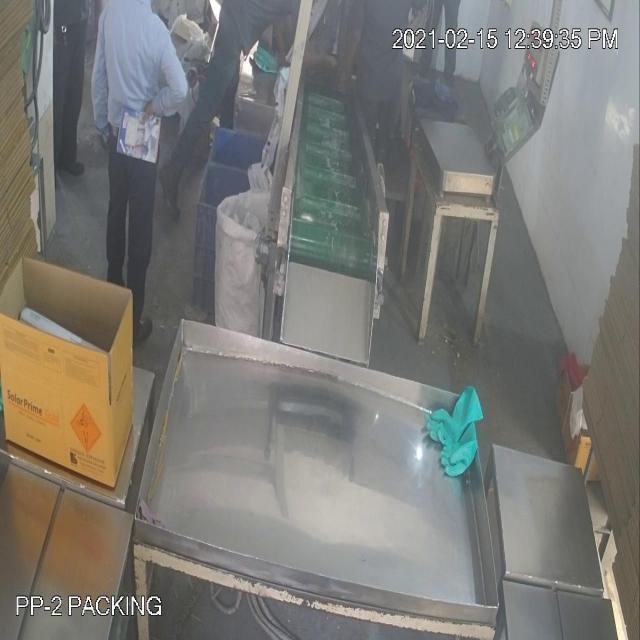Gloves: (36, 64, 453, 427)
